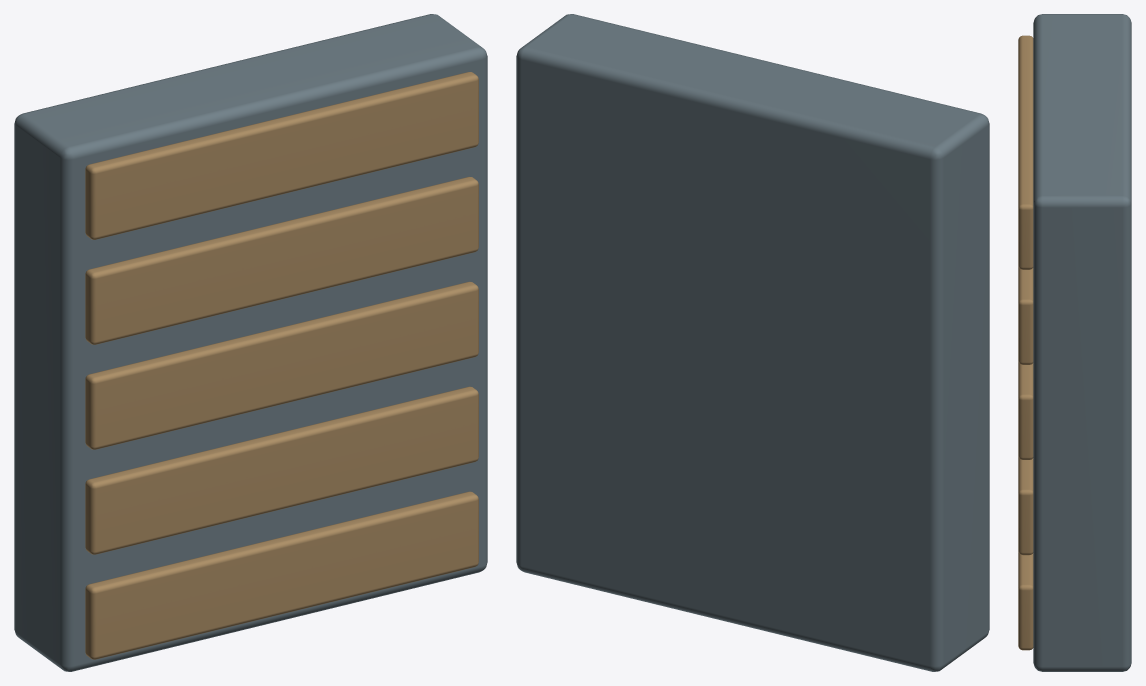
File: security_wall.fbx
The picture shows the model from 3 angles, left to right: view 1: azimuth 30°, elevation 25°; view 2: azimuth 150°, elevation 25°; view 3: azimuth 270°, elevation 25°; orthographic projection. The views are drawn at different scales.
Parts seen in each view (by area): view 1: security_wall; view 2: security_wall; view 3: security_wall.
Part boxes in pixels (x1=…): security_wall: x1=14, y1=14, x2=487, y2=671; security_wall: x1=516, y1=14, x2=989, y2=671; security_wall: x1=1018, y1=14, x2=1131, y2=671.
Size of the model in its own units: 340 by 86.5 by 400.
